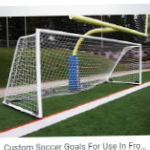goals: (3, 27, 145, 119)
